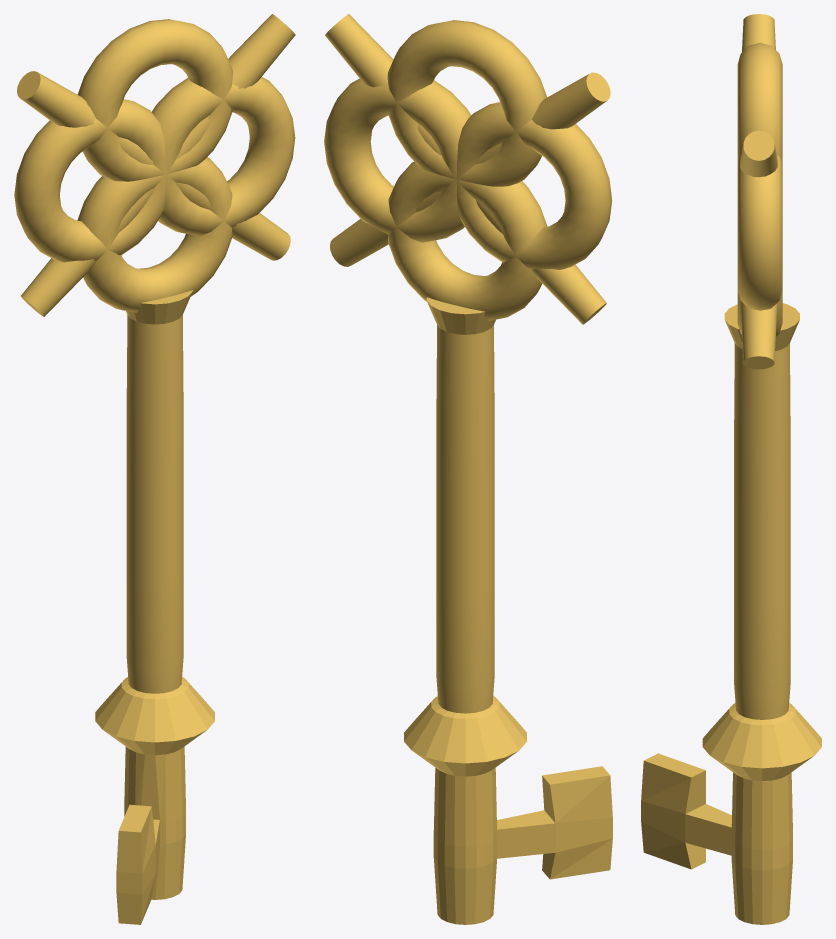
File: KEY2.fbx
3 renders of one model, left to right at view 1: azimuth 30°, elevation 25°; view 2: azimuth 150°, elevation 25°; view 3: azimuth 270°, elevation 25°, orthographic. The views are drawn at different scales.
Parts seen in each view (by area): view 1: 1LLAVE; view 2: 1LLAVE; view 3: 1LLAVE.
Boxes of the visible parts, left/top/right/bottom form: 1LLAVE: left=14, top=14, right=295, bottom=924; 1LLAVE: left=324, top=14, right=612, bottom=924; 1LLAVE: left=641, top=14, right=821, bottom=924.
Bounding box in the file's own units: 21.89 × 65.96 × 12.54.
